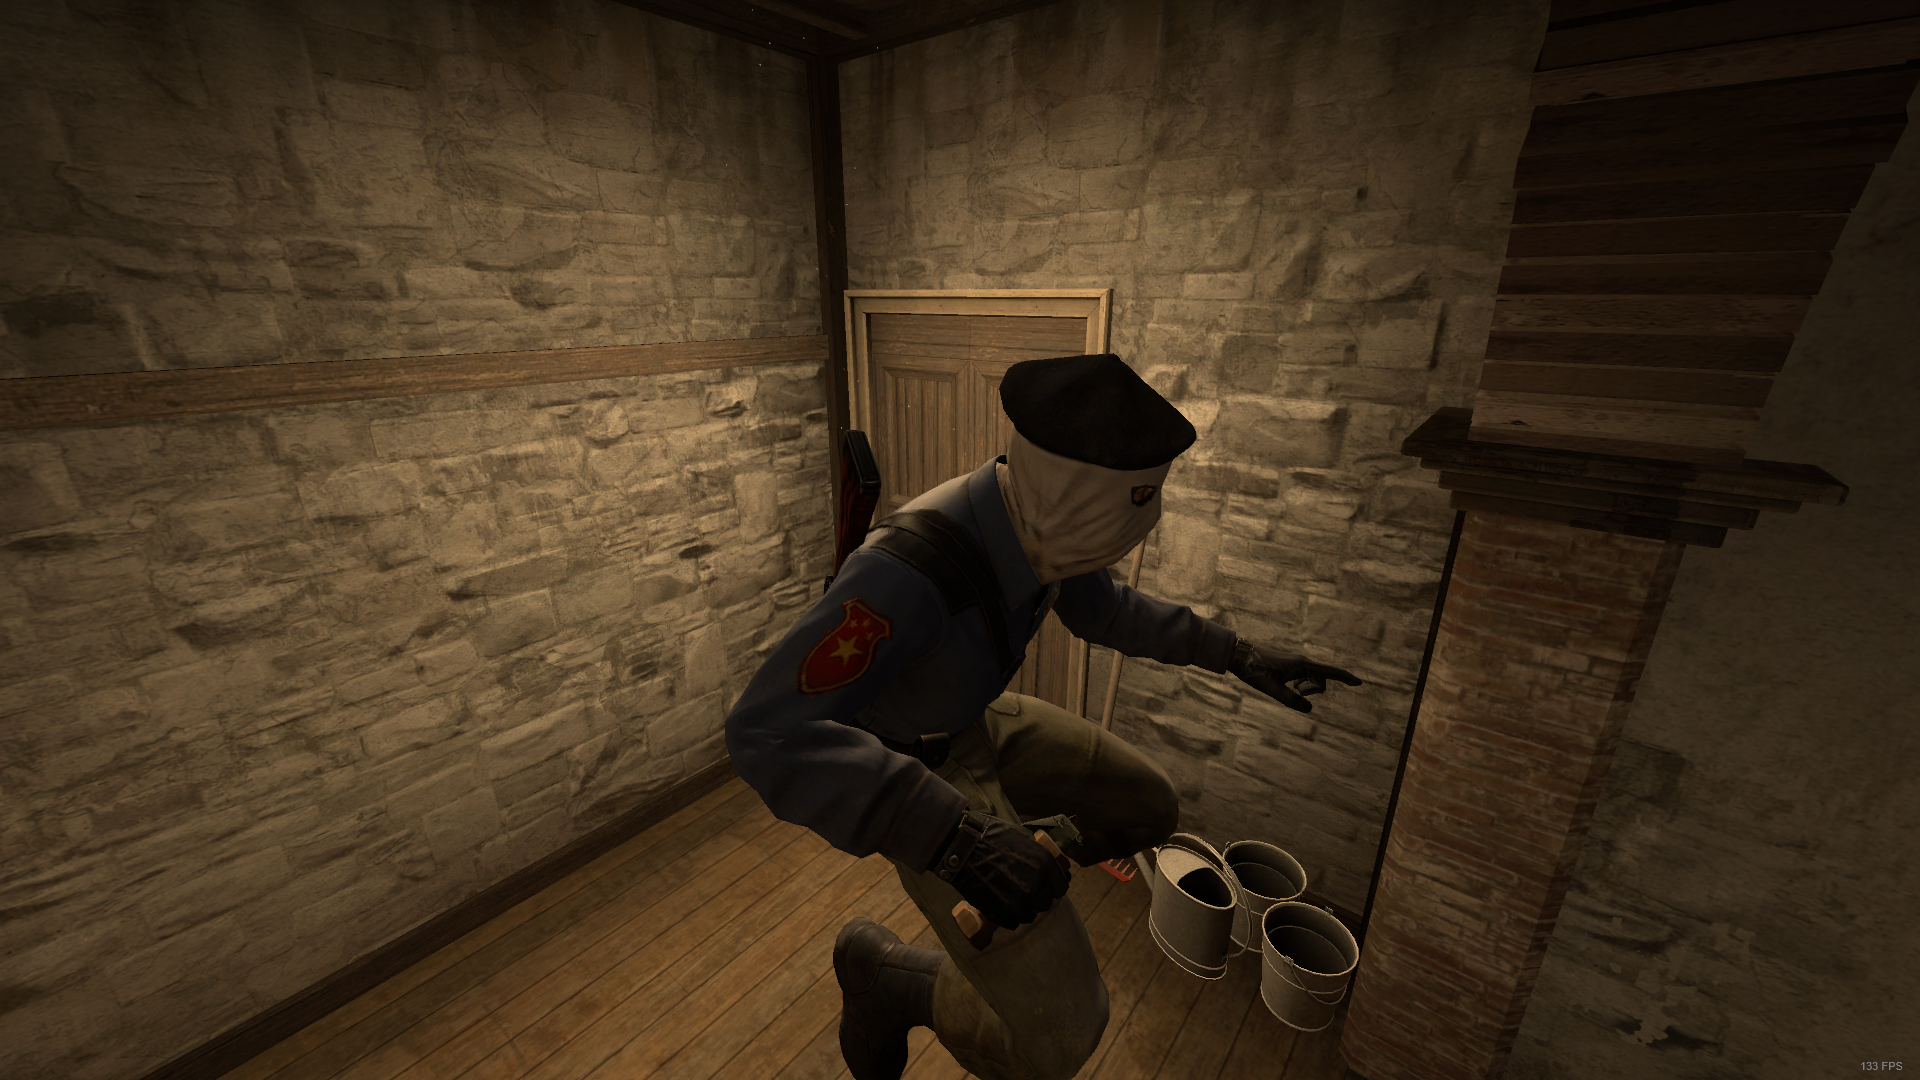t: (715, 349, 1361, 1080)
